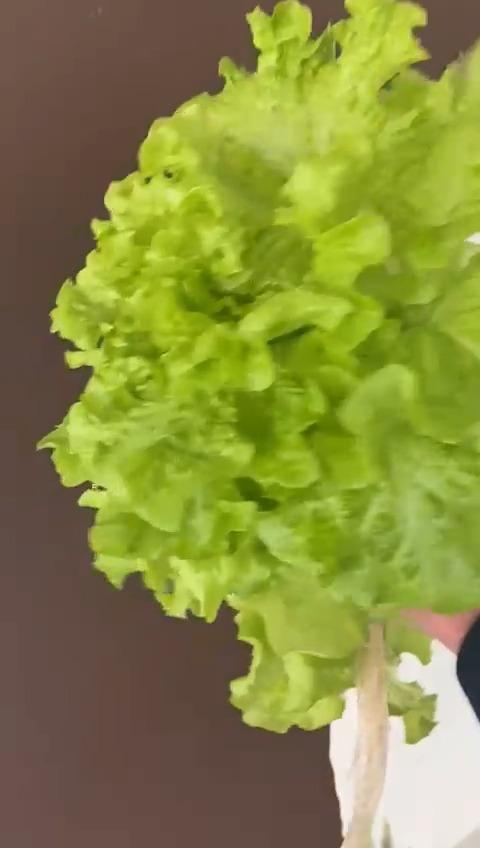Healthy: (35, 2, 480, 737)
